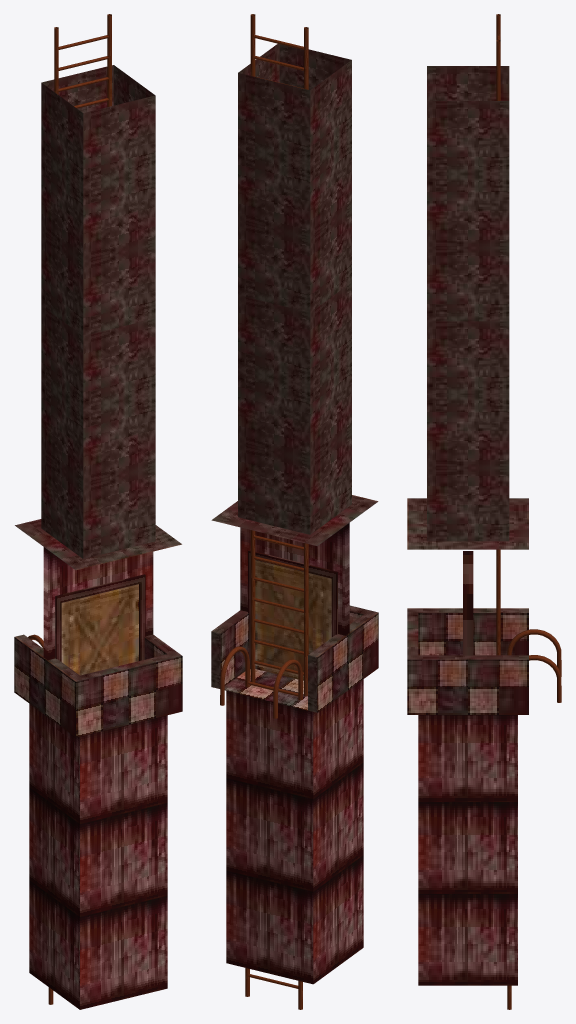
Rendered from Cell_Elements_00.glb.
The picture shows the model from 3 angles, left to right: view 1: azimuth 30°, elevation 25°; view 2: azimuth 150°, elevation 25°; view 3: azimuth 270°, elevation 25°; orthographic projection.
Parts seen in each view (by area): view 1: Ceiling._Exit, Ground_Entry, MovablePart, Door_00, Ceiling, Ladder; view 2: Ceiling._Exit, Ground_Entry, MovablePart, Door_00, Ladder, Ladder.001, Ground; view 3: Ceiling._Exit, Ground_Entry, Ceiling, Door_00, Ladder.001, Ladder.
Boxes of the visible parts, left/top/right/bottom form: Ceiling._Exit: left=19, top=65, right=172, bottom=569; Ground_Entry: left=14, top=634, right=182, bottom=1009; MovablePart: left=61, top=584, right=138, bottom=675; Door_00: left=43, top=547, right=153, bottom=661; Ceiling: left=15, top=519, right=181, bottom=570; Ladder: left=54, top=14, right=111, bottom=108; Ceiling._Exit: left=212, top=44, right=377, bottom=545; Ground_Entry: left=211, top=605, right=378, bottom=984; MovablePart: left=255, top=560, right=331, bottom=680; Door_00: left=240, top=523, right=349, bottom=668; Ladder: left=250, top=14, right=308, bottom=696; Ladder.001: left=220, top=646, right=302, bottom=1009; Ground: left=224, top=669, right=307, bottom=710; Ceiling._Exit: left=407, top=66, right=528, bottom=549; Ground_Entry: left=407, top=608, right=528, bottom=985; Ceiling: left=407, top=498, right=528, bottom=549; Door_00: left=463, top=551, right=473, bottom=655; Ladder.001: left=507, top=629, right=561, bottom=1009; Ladder: left=496, top=14, right=500, bottom=655.
Size of the model in its own units: 2 by 17.58 by 2.54.
4 materials, 4 textured.
